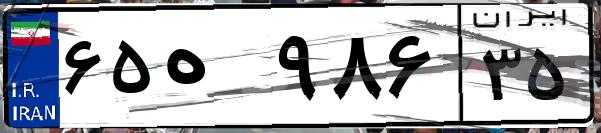3: (475, 38, 525, 113)
5: (525, 38, 570, 115), (110, 28, 158, 98)
6: (385, 28, 445, 110), (57, 26, 110, 100)
8: (330, 28, 385, 110)
9: (270, 28, 330, 110)
ه: (158, 20, 270, 120)
